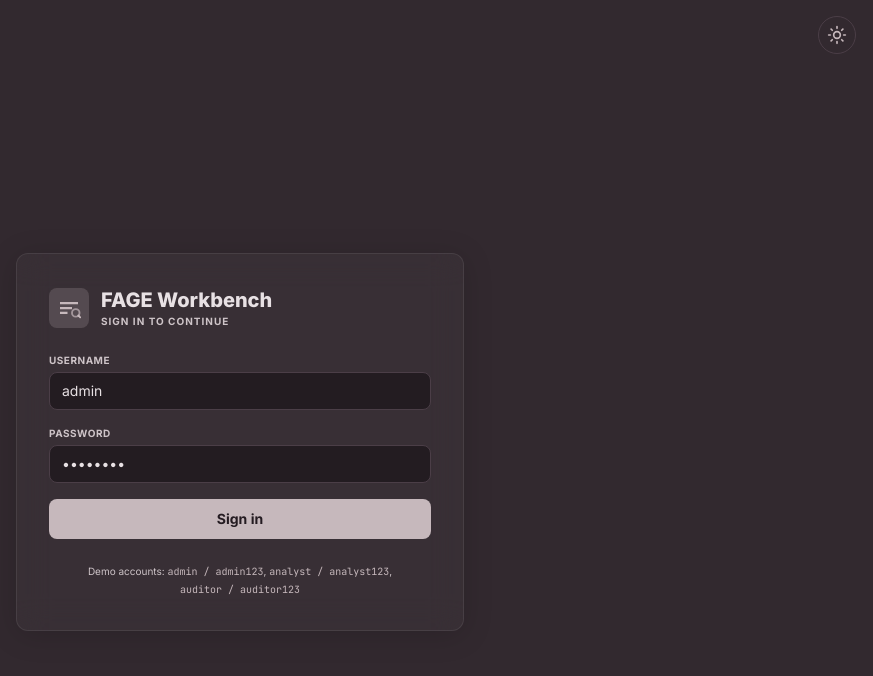
LoginView › displays error message on login failure
The width and height of the screenshot is (873, 676).
Click the button "Sign in" at (240,519), box [49, 499, 431, 539]
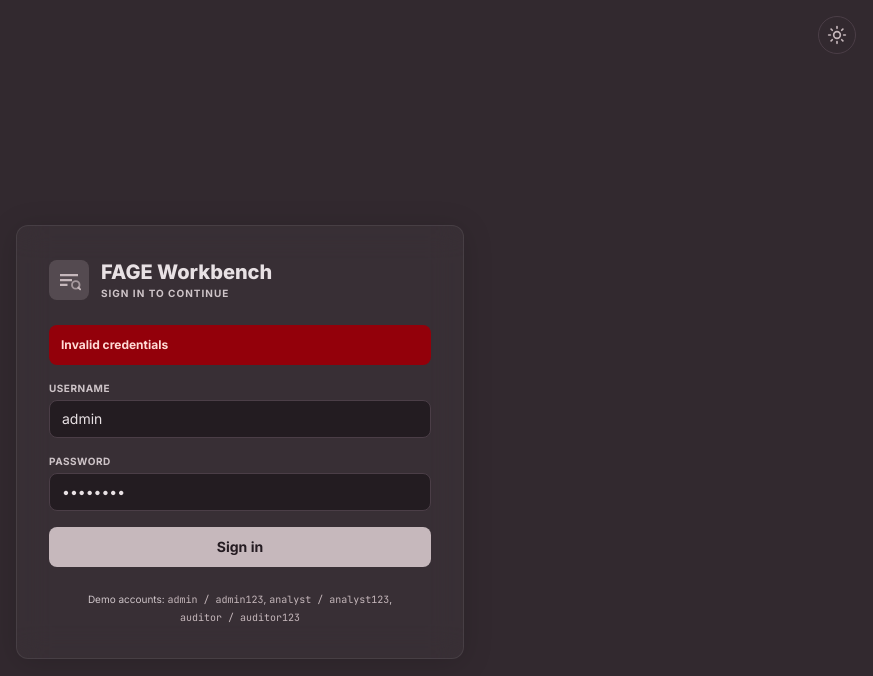
Check: the text "Invalid credentials" is shown, box [49, 325, 431, 365]
